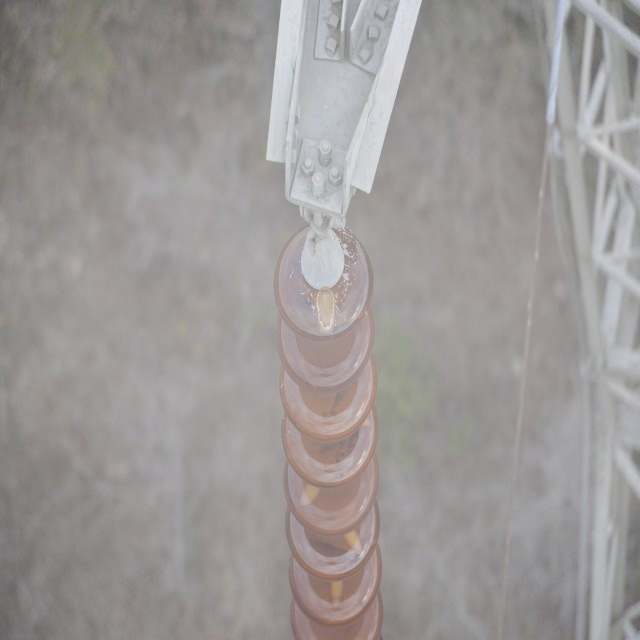insulator: (275, 224, 389, 640)
